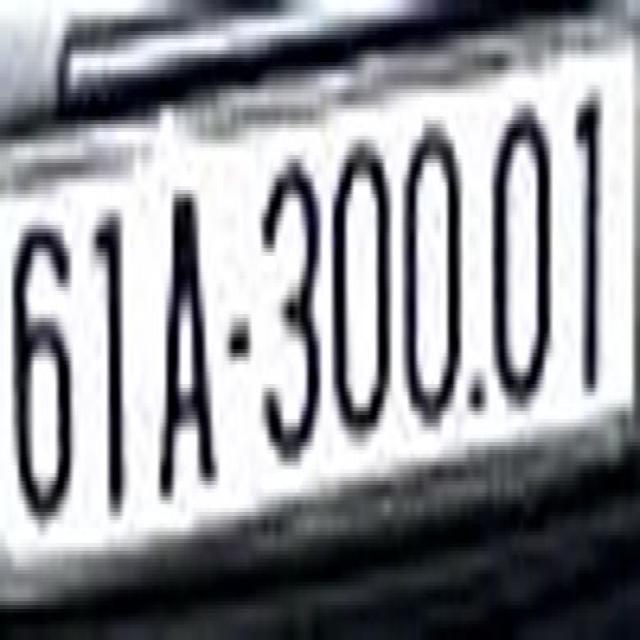0: (488, 93, 556, 415), (331, 120, 394, 466), (399, 109, 464, 438)
1: (85, 178, 136, 536), (568, 70, 614, 412)
3: (258, 132, 320, 492)
6: (9, 202, 77, 540)
A: (154, 159, 218, 516)
